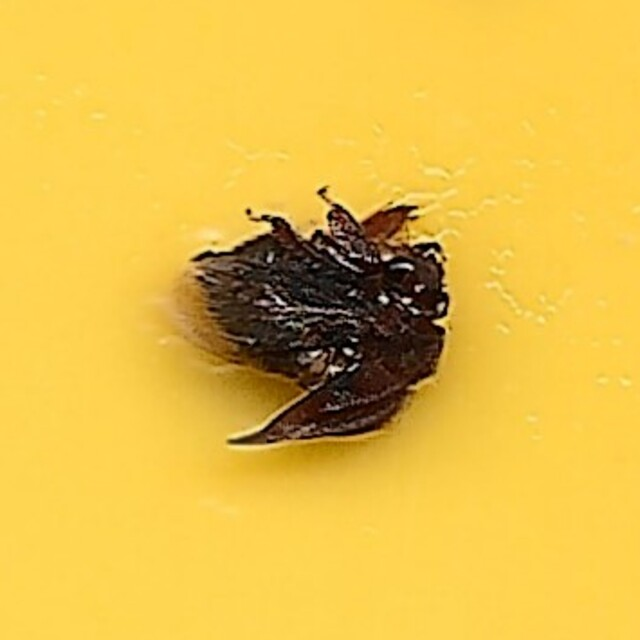Hemiptera: (180, 184, 460, 456)
